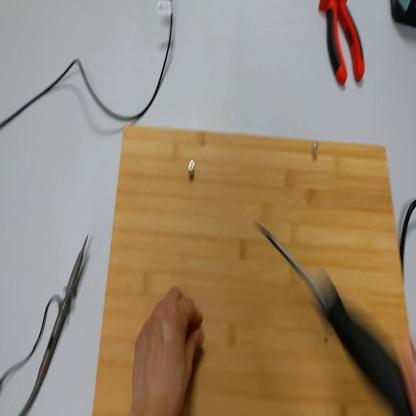hand: (132, 296, 204, 416)
oscilloscope probe tip: (23, 234, 91, 414)
pliers: (320, 1, 366, 91)
screwdriver-: (254, 221, 413, 415)
welder station: (391, 2, 416, 31)
working area: (95, 121, 412, 416)
